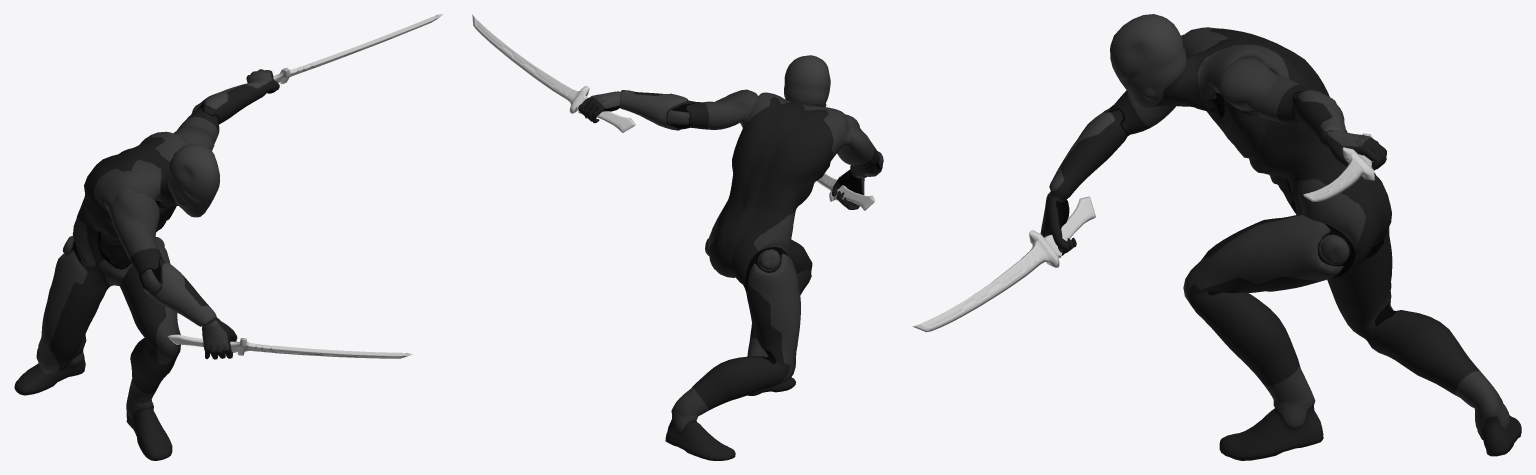
The picture shows the model from 3 angles, left to right: view 1: azimuth 30°, elevation 25°; view 2: azimuth 150°, elevation 25°; view 3: azimuth 270°, elevation 25°; orthographic projection. The views are drawn at different scales.
Parts seen in each view (by area): view 1: Cyborg_Ninja_Killer, Sword_l001, Sword_l; view 2: Cyborg_Ninja_Killer, Sword_l, Sword_l001; view 3: Cyborg_Ninja_Killer, Sword_l001, Sword_l.
Boxes of the visible parts, left/top/right/bottom form: Cyborg_Ninja_Killer: left=14, top=69, right=279, bottom=460; Sword_l001: left=167, top=334, right=412, bottom=358; Sword_l: left=273, top=14, right=442, bottom=84; Cyborg_Ninja_Killer: left=578, top=55, right=883, bottom=460; Sword_l: left=472, top=14, right=635, bottom=132; Sword_l001: left=817, top=173, right=875, bottom=210; Cyborg_Ninja_Killer: left=1040, top=14, right=1521, bottom=460; Sword_l001: left=912, top=196, right=1095, bottom=332; Sword_l: left=1303, top=133, right=1375, bottom=201.
Bounding box in the file's own units: 157 × 139 × 168.
